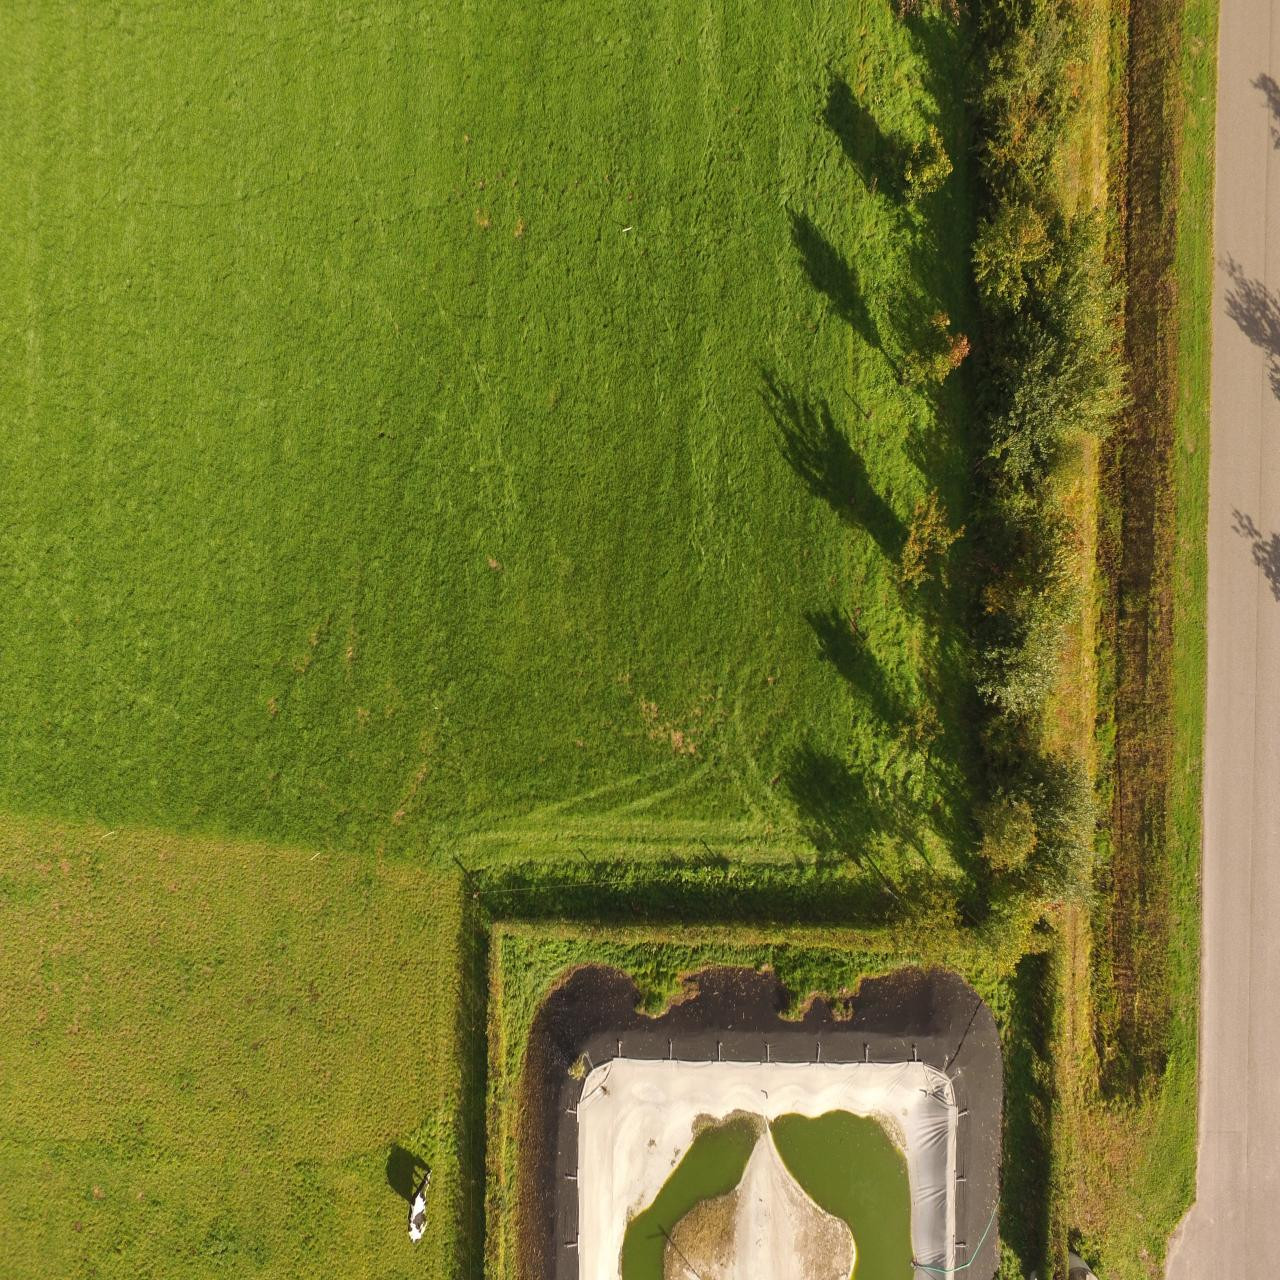cow: (404, 1165, 435, 1245)
